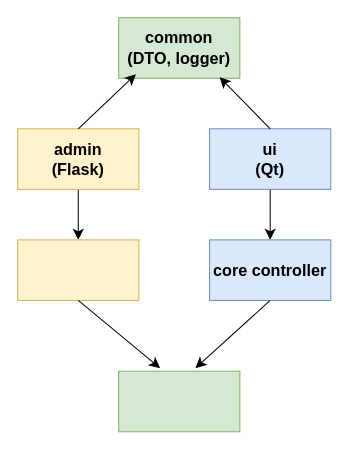
The diagram is 348 pixels wide and 449 high, and some of its shapes have lost their labels. Here are the shapes that lost their labels. From the top down, the centre of each, then its label:
the point at 78,269: admin controller
the point at 179,401: db
